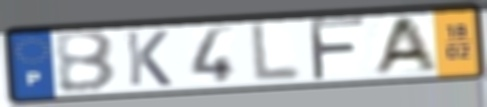4: (187, 25, 239, 85)
A: (368, 14, 440, 78)
B: (51, 29, 119, 95)
F: (305, 16, 368, 84)
K: (122, 29, 174, 88)
L: (249, 20, 304, 85)
